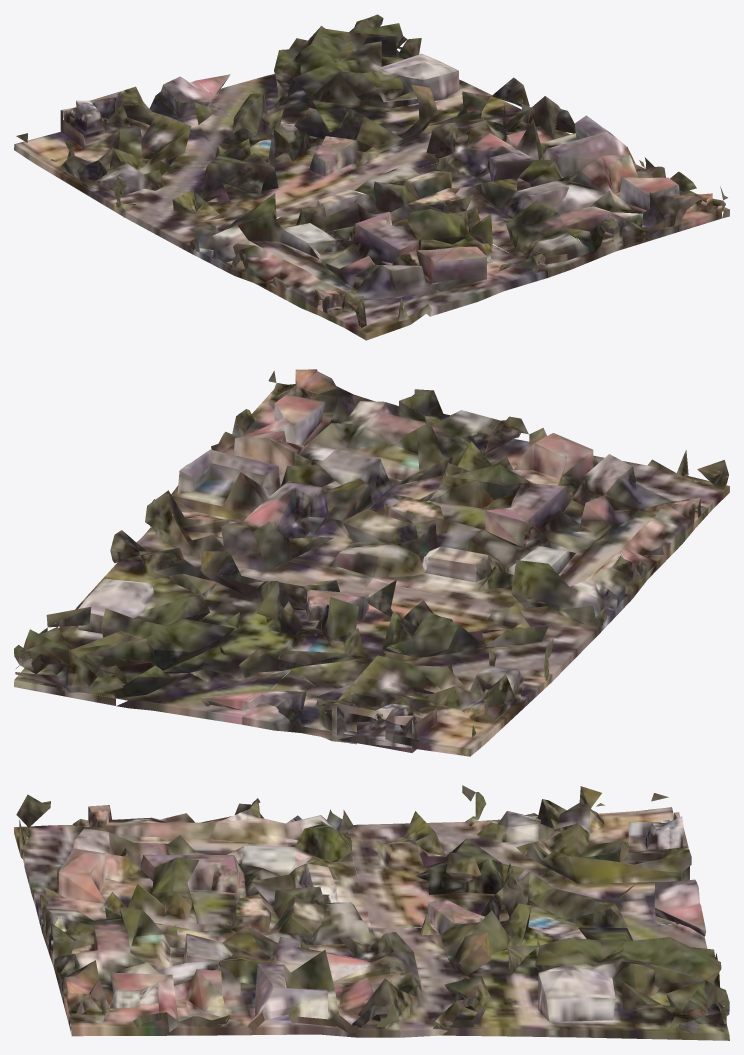
The picture shows the model from 3 angles, top to bottom: view 1: azimuth 30°, elevation 25°; view 2: azimuth 150°, elevation 25°; view 3: azimuth 270°, elevation 25°; orthographic projection. The views are drawn at different scales.
Parts seen in each view (by area): view 1: Mesh_0; view 2: Mesh_0; view 3: Mesh_0.
Part boxes in pixels (box(x1,y1,x2,y2)): Mesh_0: box(14, 14, 729, 340); Mesh_0: box(14, 369, 729, 756); Mesh_0: box(14, 785, 729, 1040).
Size of the model in its own units: 266 by 39.72 by 330.
2 materials, 2 textured.
